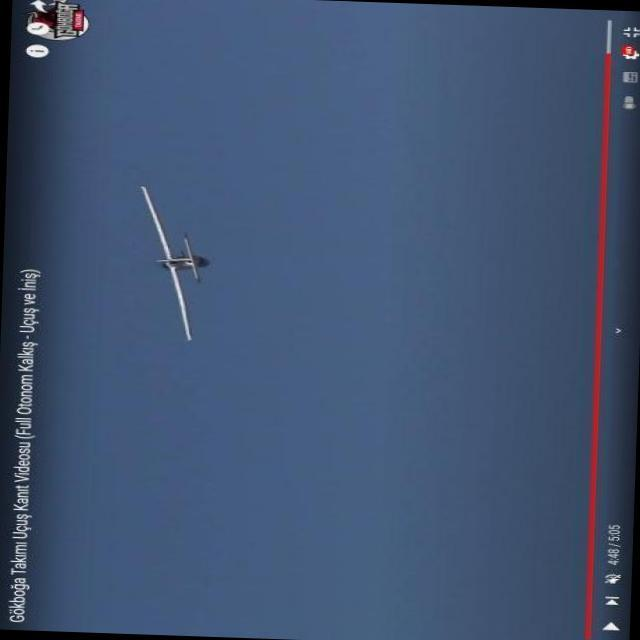iha: (180, 126, 204, 358)
